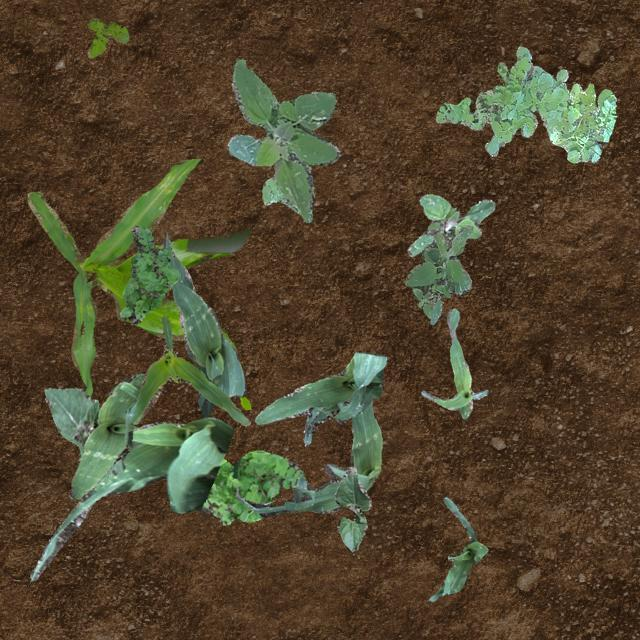crop: (27, 158, 250, 408), (29, 416, 232, 580), (232, 400, 382, 516), (162, 232, 245, 418), (130, 314, 250, 424), (254, 350, 386, 444), (68, 370, 144, 498), (420, 308, 488, 418), (44, 386, 124, 476), (428, 496, 487, 600), (334, 466, 371, 550)
weed: (434, 46, 616, 162), (226, 58, 340, 222), (198, 450, 304, 524), (404, 224, 472, 324), (118, 225, 178, 322), (407, 192, 492, 255), (86, 18, 128, 56), (260, 176, 288, 206)
